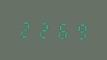nine: (69, 20, 85, 41)
six: (52, 19, 68, 40)
two: (18, 18, 34, 39), (35, 19, 51, 39)
